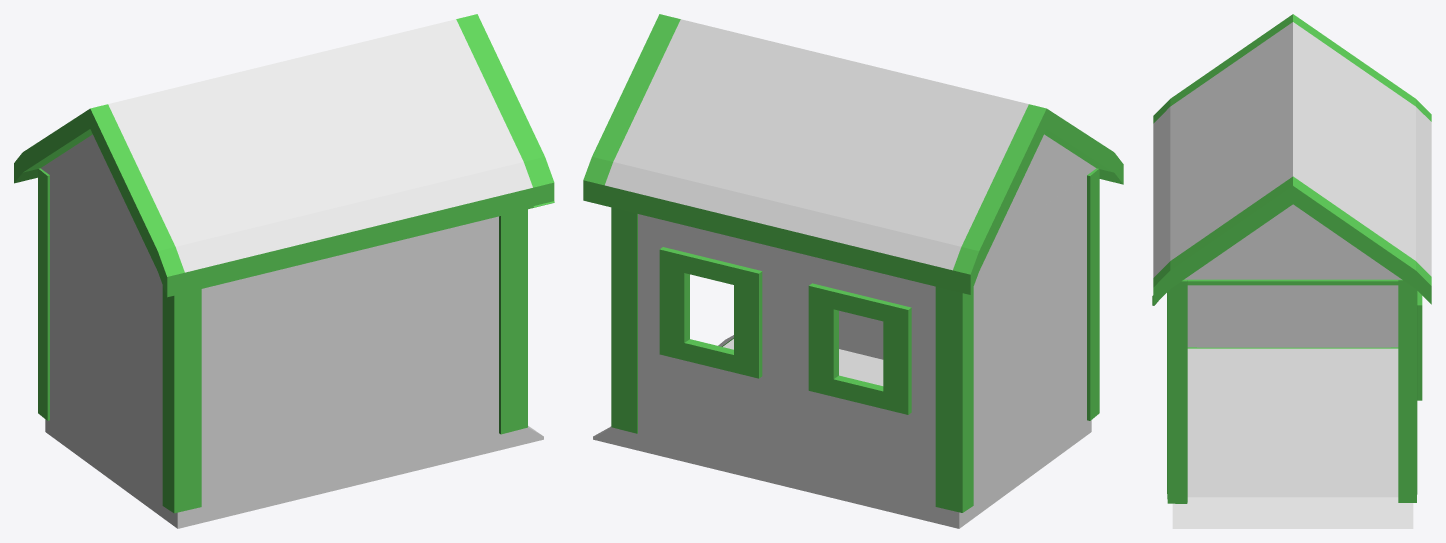
Rendered from house.fbx.
3 views of the same model, side by side, from view 1: azimuth 30°, elevation 25°; view 2: azimuth 150°, elevation 25°; view 3: azimuth 270°, elevation 25° (orthographic). The views are drawn at different scales.
Parts seen in each view (by area): view 1: Cube; view 2: Cube; view 3: Cube.
Part boxes in pixels (x1,y1,x2,y2): Cube: (14,14,554,528); Cube: (583,14,1123,528); Cube: (1152,14,1431,528).
Size of the model in its own units: 801 by 744 by 549.
